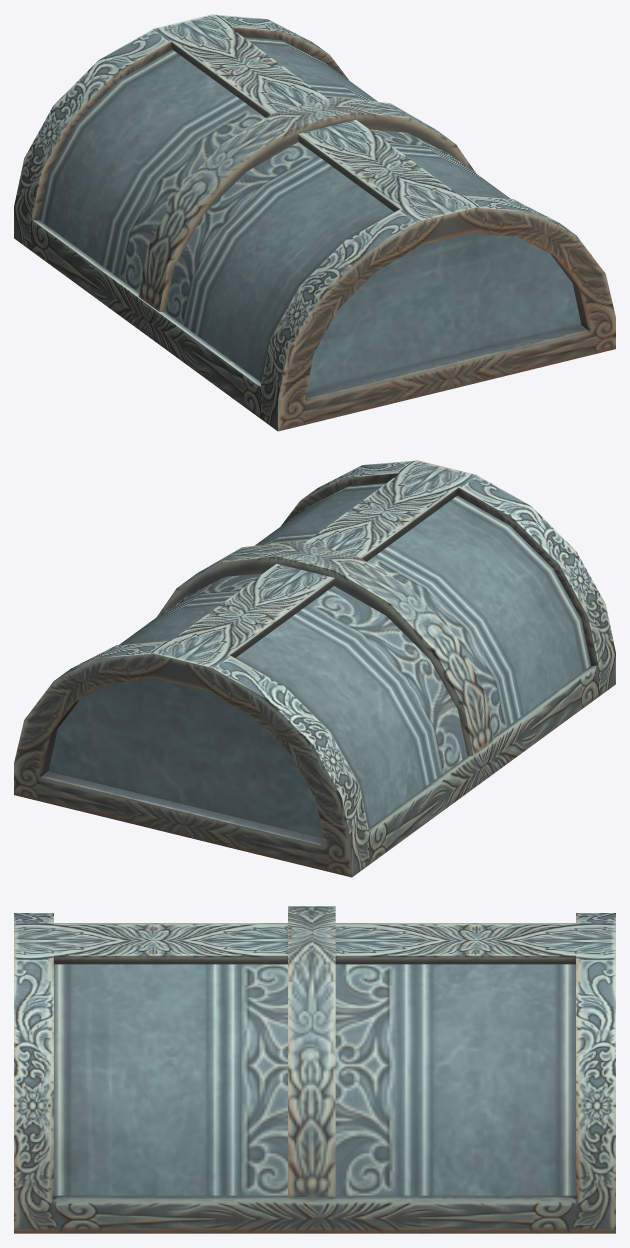
File: SM_Jewelry_Box_Cover_B_Bronze.fbx
3 renders of one model, top to bottom at view 1: azimuth 30°, elevation 25°; view 2: azimuth 150°, elevation 25°; view 3: azimuth 270°, elevation 25°, orthographic. The views are drawn at different scales.
Visible parts, largest first — view 1: SM_Jewelry_Box_Cover_B_Bronze_LOD0; view 2: SM_Jewelry_Box_Cover_B_Bronze_LOD0; view 3: SM_Jewelry_Box_Cover_B_Bronze_LOD0.
Boxes of the visible parts, x1,y1,x2,y2 form: SM_Jewelry_Box_Cover_B_Bronze_LOD0: (14,14,615,431); SM_Jewelry_Box_Cover_B_Bronze_LOD0: (14,460,615,877); SM_Jewelry_Box_Cover_B_Bronze_LOD0: (14,906,615,1233).
Bounding box in the file's own units: 15.79 × 21.35 × 8.16.
Materials: 1 (1 with a texture image).
